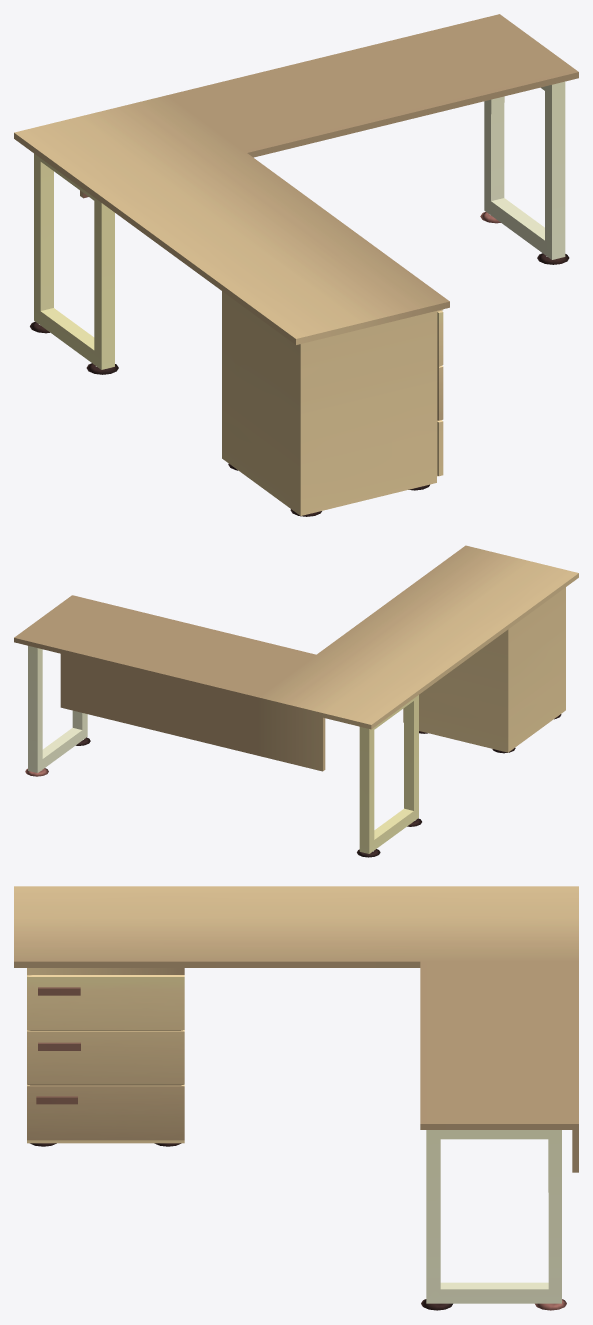
The model's file is Escritoriol.fbx.
The picture shows the model from 3 angles, top to bottom: view 1: azimuth 30°, elevation 25°; view 2: azimuth 150°, elevation 25°; view 3: azimuth 270°, elevation 25°; orthographic projection. The views are drawn at different scales.
Visible parts, largest first — view 1: Escritoriol; view 2: Escritoriol; view 3: Escritoriol.
Part boxes in pixels (x1,y1,x2,y2): Escritoriol: (14, 14, 578, 516); Escritoriol: (14, 545, 578, 857); Escritoriol: (14, 886, 578, 1310).
Bounding box in the file's own units: 14.16 × 5.23 × 14.24.
Materials: 1 (1 with a texture image).
